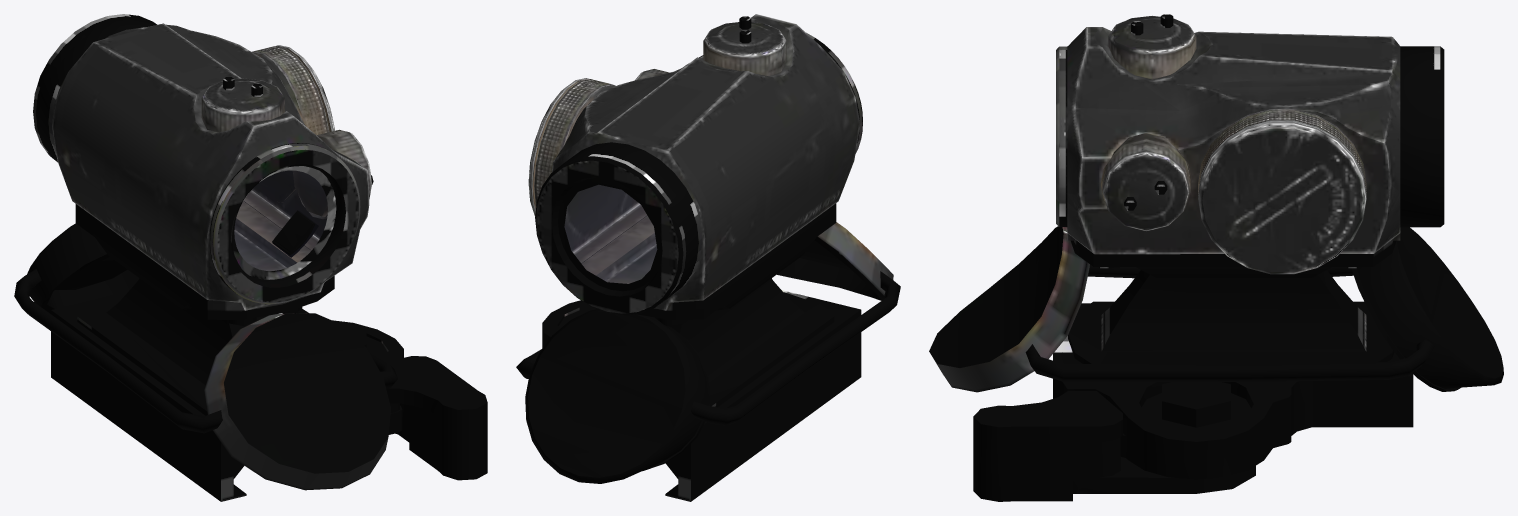
The model's file is Red-Dot-Sight-NATO.glb.
The picture shows the model from 3 angles, left to right: view 1: azimuth 30°, elevation 25°; view 2: azimuth 150°, elevation 25°; view 3: azimuth 270°, elevation 25°; orthographic projection. The views are drawn at different scales.
Visible parts, largest first — view 1: Red Dot Sight NATO; view 2: Red Dot Sight NATO; view 3: Red Dot Sight NATO.
Part boxes in pixels (x1=…): Red Dot Sight NATO: x1=14, y1=14, x2=487, y2=501; Red Dot Sight NATO: x1=516, y1=14, x2=900, y2=501; Red Dot Sight NATO: x1=929, y1=14, x2=1503, y2=501.
Size of the model in its own units: 0.0528 by 0.0663 by 0.0877.
3 materials, 1 textured.
